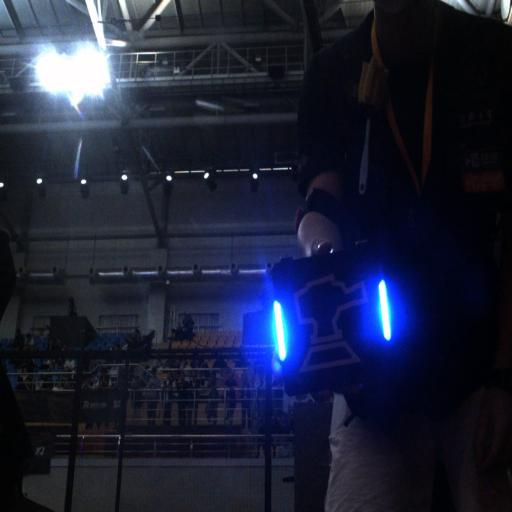target: (270, 259, 396, 384)
